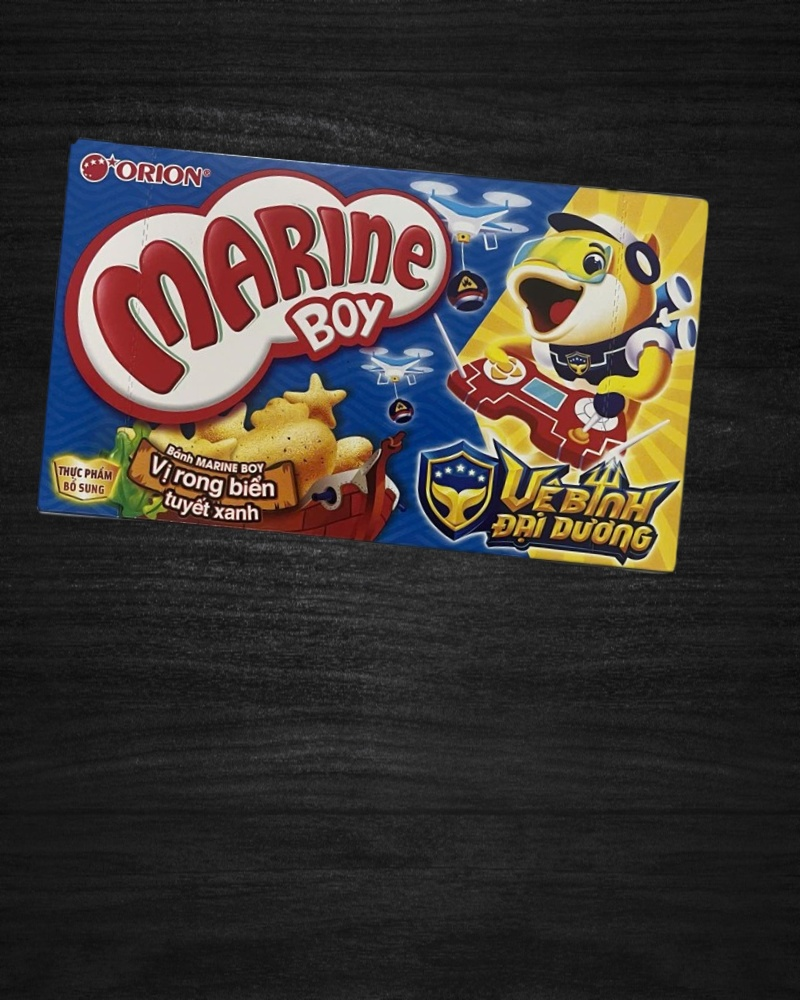Marine: (38, 138, 712, 575)
